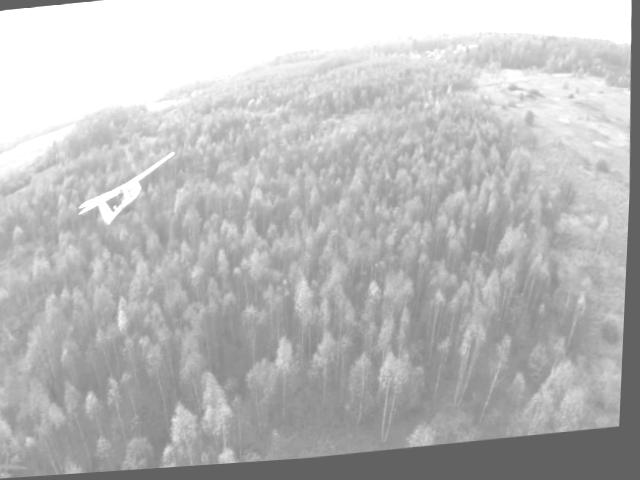hedef: (77, 144, 185, 249)
